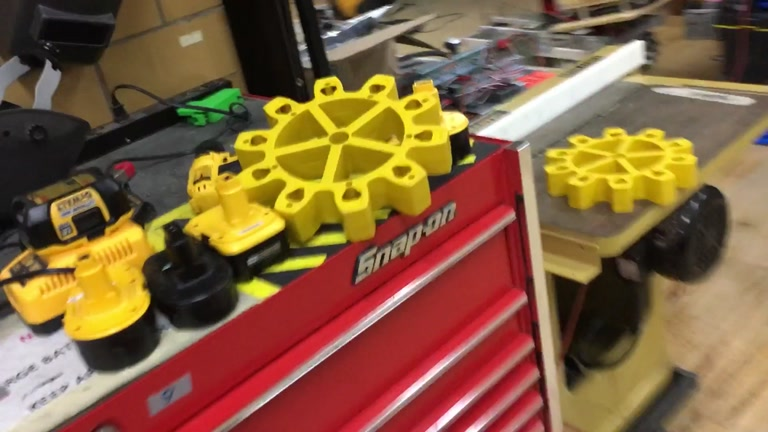gear: (231, 73, 453, 241), (543, 126, 699, 213)
